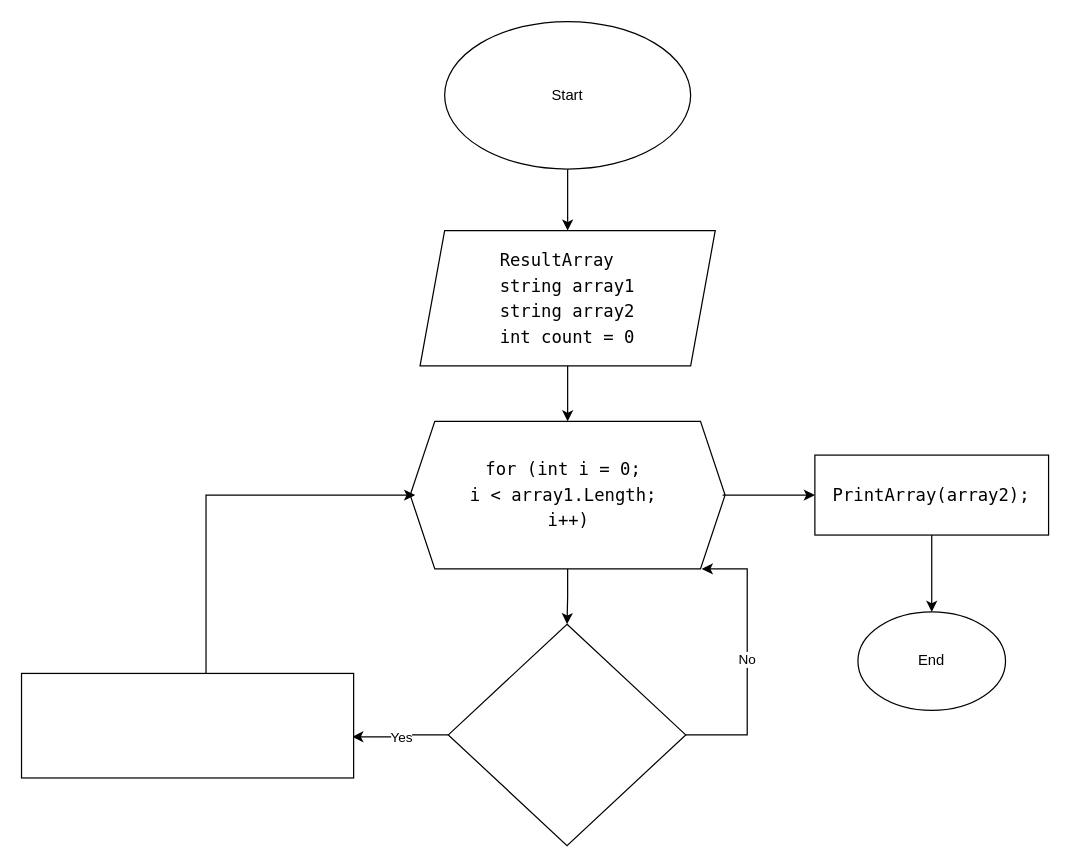
Image size: 1070x867. Some labels were removed from this diagram. The centre of each missing label's shape, as x and y in pixels:
"array2[count] = array1[i]; count++;" belongs at point (187, 725).
"if (array1[I].length <= 3)" belongs at point (566, 734).
